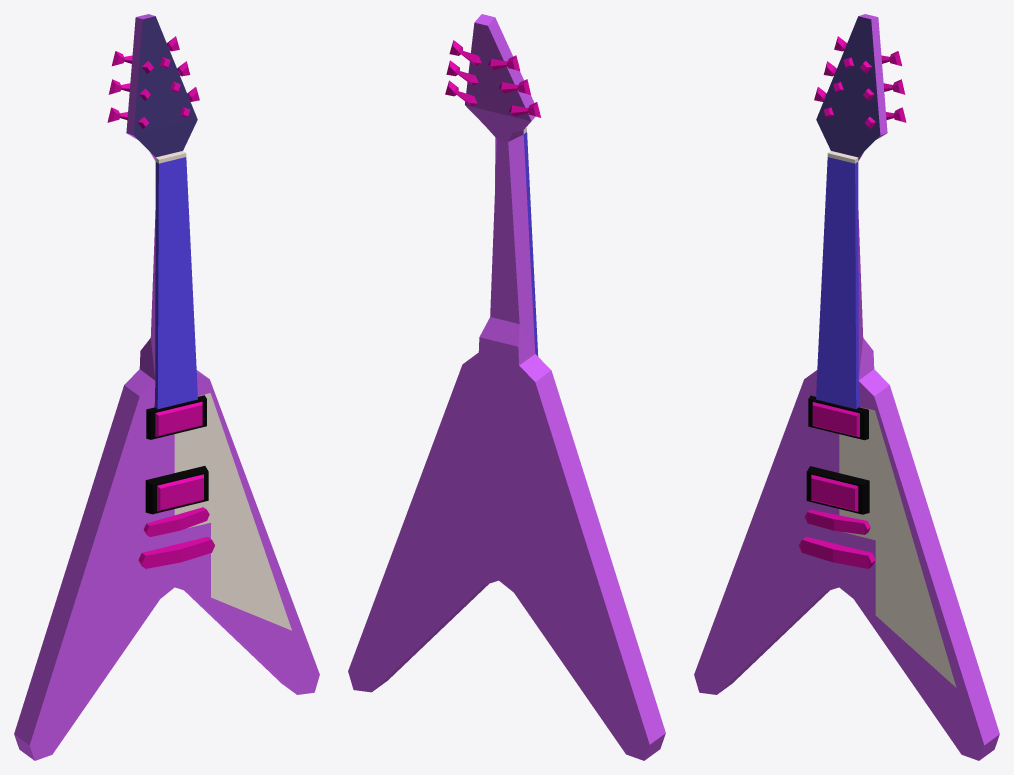
Rendered from 056_guitar.fbx.
3 renders of one model, left to right at view 1: azimuth 30°, elevation 25°; view 2: azimuth 150°, elevation 25°; view 3: azimuth 330°, elevation 25°, orthographic. The views are drawn at different scales.
Visible parts, largest first — view 1: GUITAR; view 2: GUITAR; view 3: GUITAR.
Part boxes in pixels (x1,y1,x2,y2): GUITAR: (14,14,319,760); GUITAR: (348,14,665,760); GUITAR: (694,14,999,760).
Size of the model in its own units: 44.45 by 101 by 10.43.
